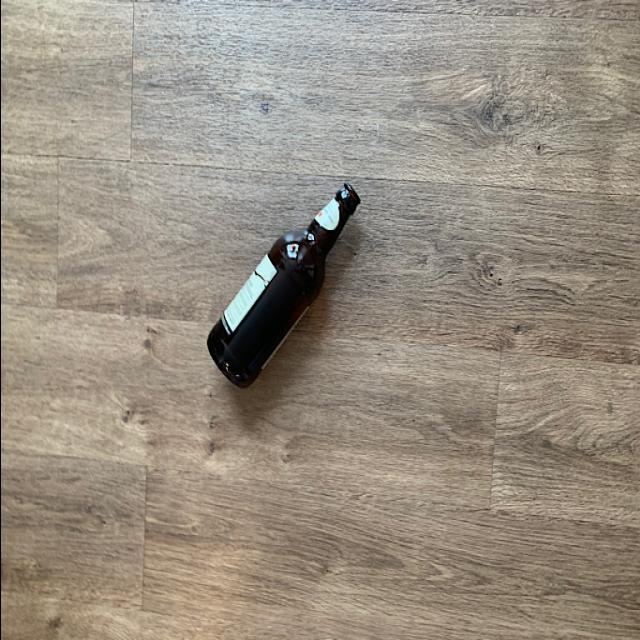litter: (200, 182, 360, 396)
